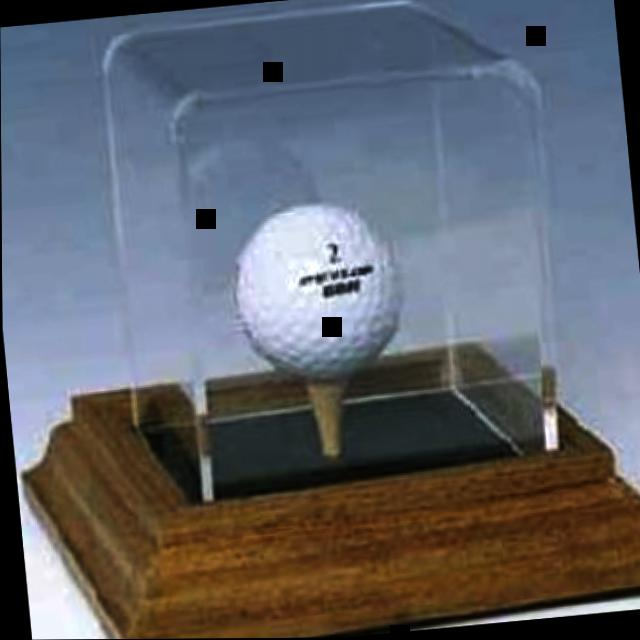golf ball: (223, 188, 419, 393)
